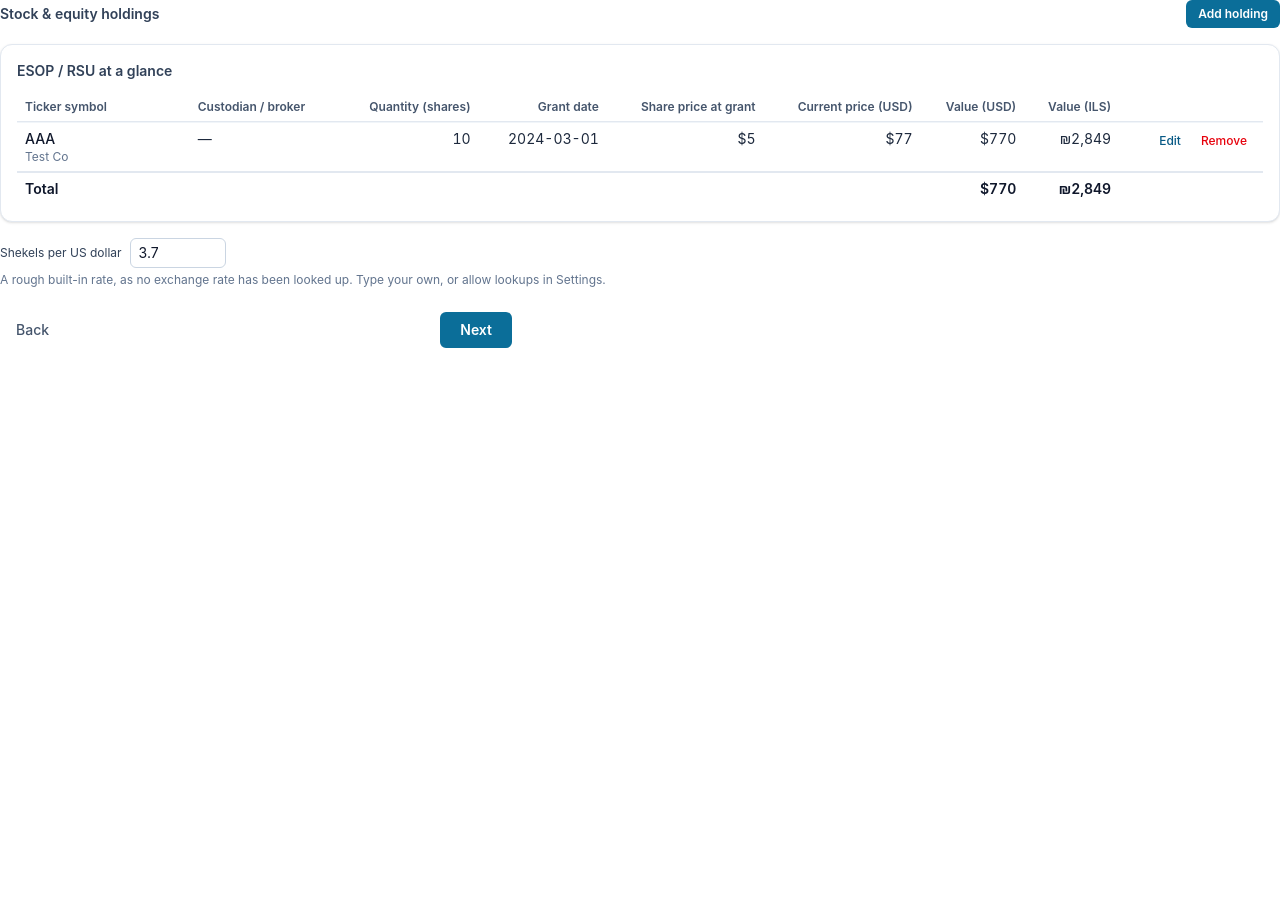
it: EquityStep — stock price suggestions and autofill › does not touch the values of a holding that is edited
This screenshot has width=1280, height=900.
Click the button "Edit": coordinates (1170, 141) [1151,129,1189,153]
(page scrolled)
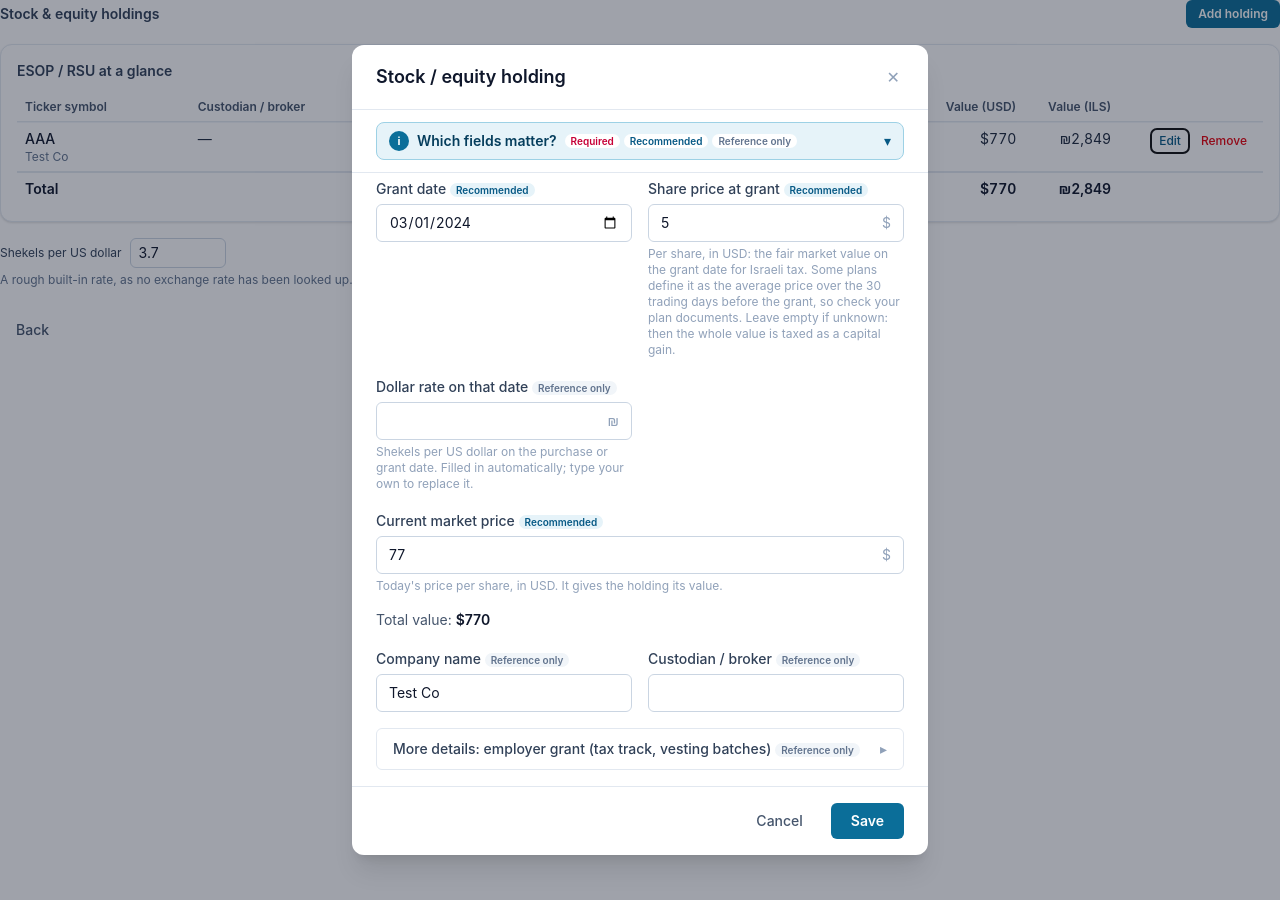
Expected: the number field labelled "Current market price" holds "77", [377,537,882,573]
Expected: the number field labelled "Share price at grant" holds "5", [649,205,882,241]
Expected: the field labelled "Company name Reference only" holds "Test Co", [376,674,632,712]
